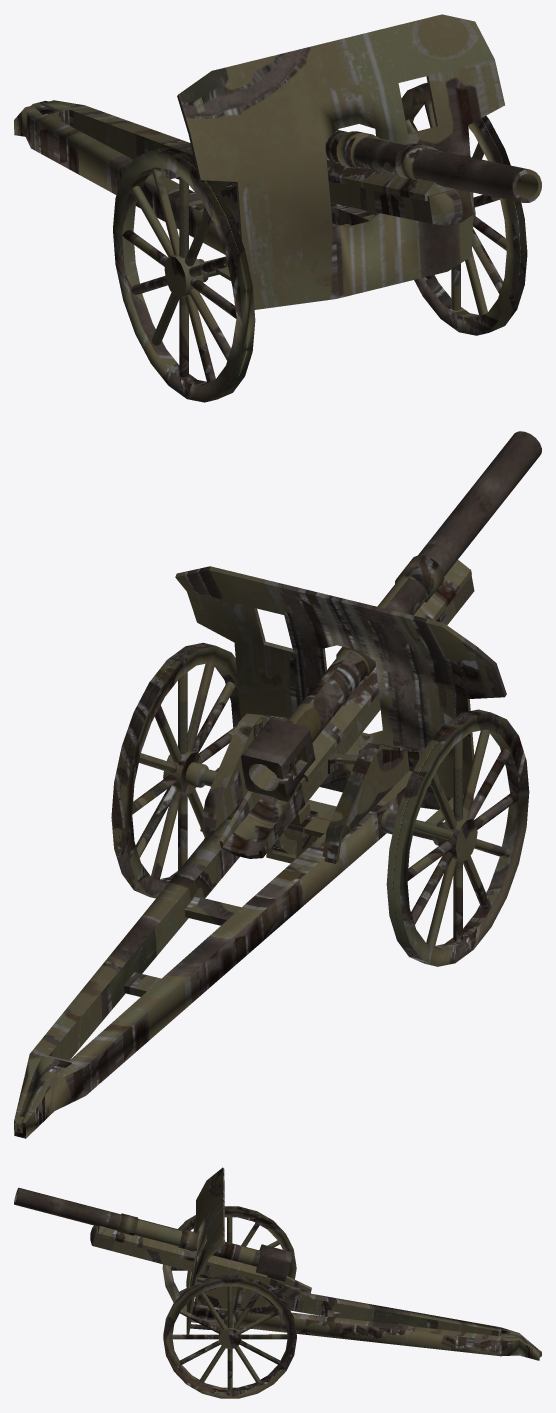
Rendered from arty10k14.dae.
The picture shows the model from 3 angles, top to bottom: view 1: azimuth 30°, elevation 25°; view 2: azimuth 150°, elevation 25°; view 3: azimuth 270°, elevation 25°; orthographic projection. The views are drawn at different scales.
Visible parts, largest first — view 1: gun, wheels, base, barrel; view 2: base, gun, wheels, barrel; view 3: base, wheels, gun, barrel.
Boxes of the visible parts, x1,y1,x2,y2 form: gun: (177, 14, 504, 309); wheels: (113, 82, 527, 402); base: (14, 100, 378, 282); barrel: (325, 130, 541, 202); base: (14, 713, 463, 1138); gun: (175, 560, 506, 858); wheels: (111, 642, 529, 966); barrel: (241, 431, 541, 799); base: (190, 1246, 541, 1360); wheels: (162, 1206, 296, 1398); gun: (90, 1167, 311, 1334); barrel: (14, 1187, 291, 1281).
Bounding box in the file's own units: 27.3 × 79.05 × 28.79.
Materials: 1 (1 with a texture image).
